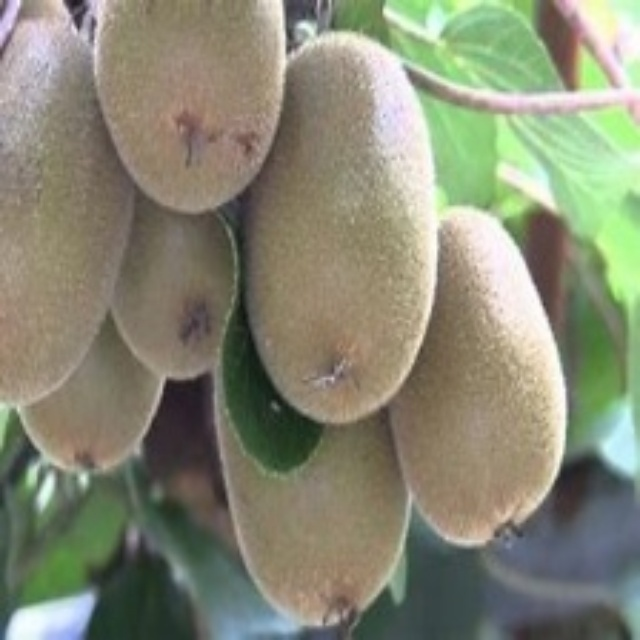kiwi: (244, 28, 435, 422), (2, 19, 151, 467), (204, 343, 412, 633), (396, 199, 568, 544), (96, 2, 284, 219), (91, 199, 257, 389)
